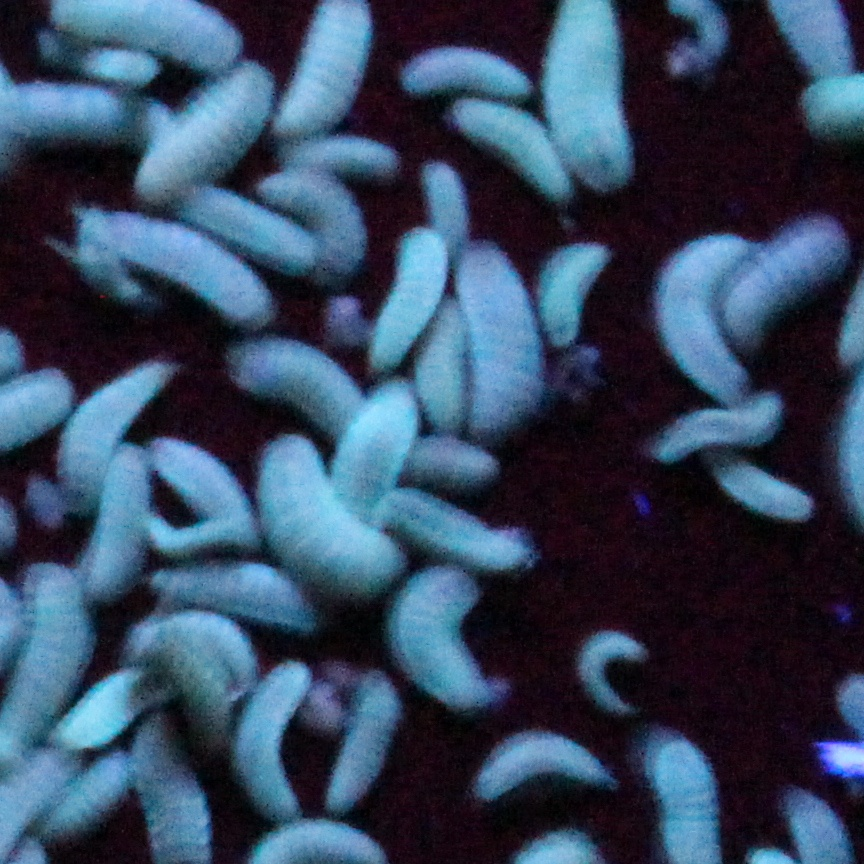larve: (75, 195, 278, 335), (249, 424, 406, 596), (57, 355, 197, 524), (641, 218, 758, 404), (448, 235, 552, 439), (378, 549, 504, 711), (133, 58, 275, 196), (1, 557, 97, 755), (718, 206, 844, 349), (224, 653, 318, 829), (146, 429, 271, 560), (442, 91, 578, 207), (219, 341, 383, 426), (458, 721, 615, 804), (650, 377, 794, 461), (393, 33, 549, 109), (535, 232, 619, 359), (702, 447, 822, 531), (365, 223, 439, 359), (575, 627, 655, 736), (53, 752, 129, 833)
